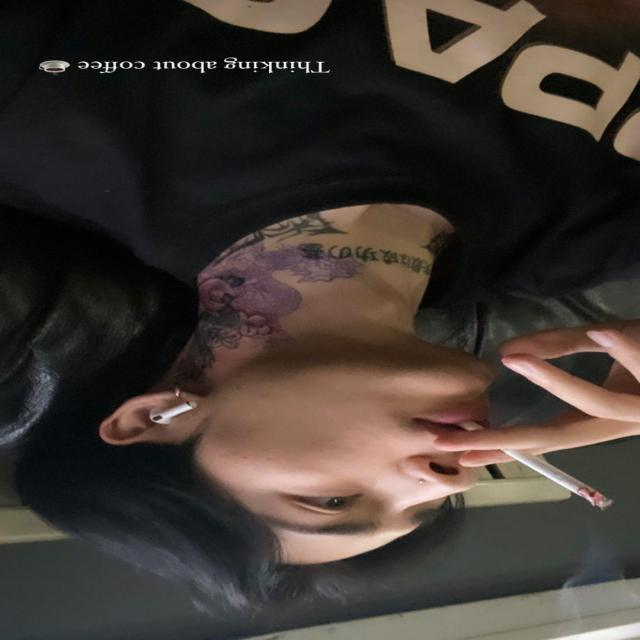cigarette: (438, 418, 630, 527)
